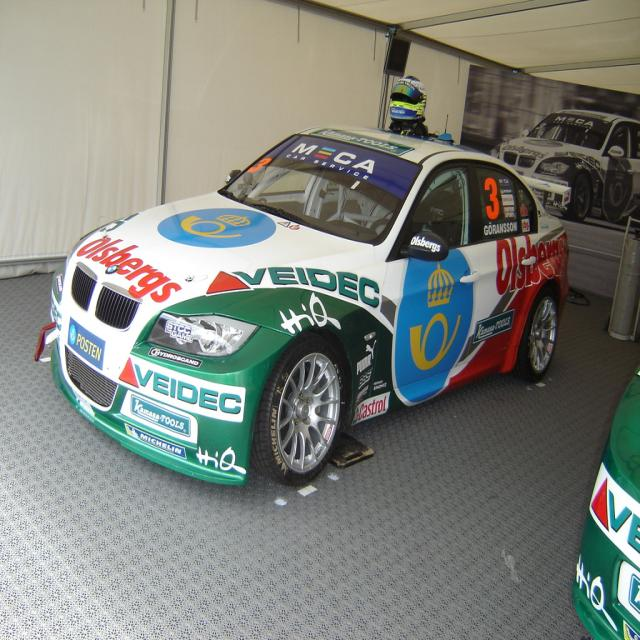car: (30, 126, 577, 489)
